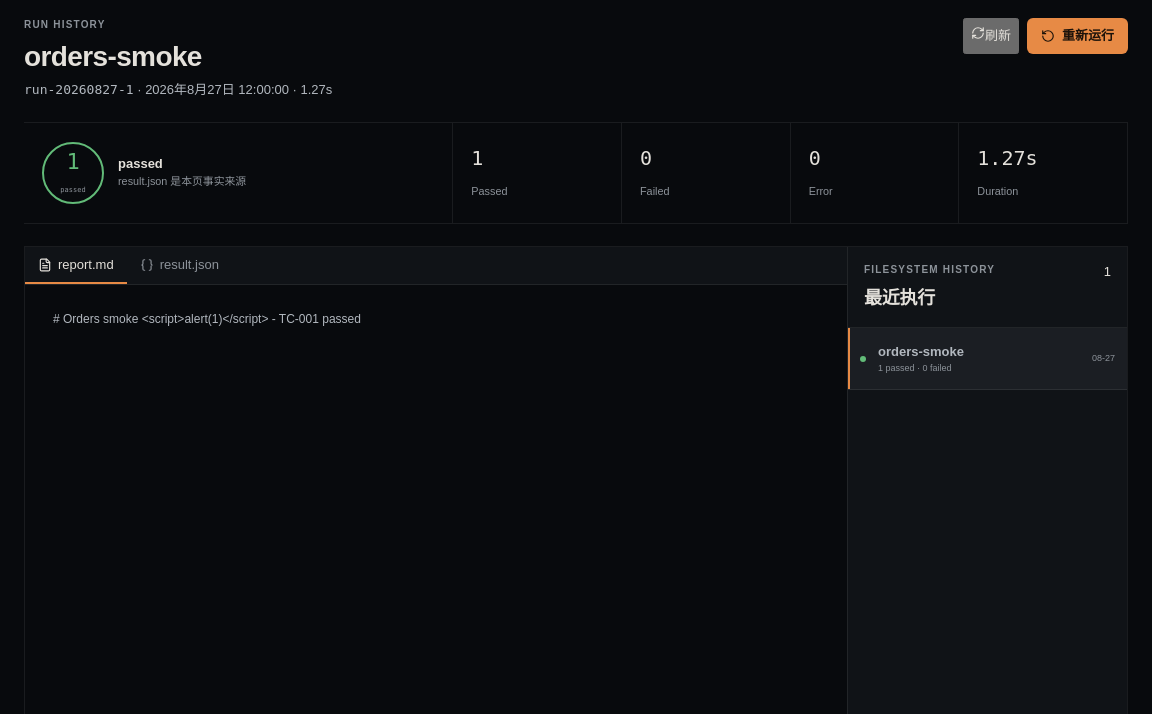
Test: ReportsView › reloads the selected report detail when refreshing history
Click the button "刷新" at x=991, y=36, box [963, 18, 1019, 54]
(page scrolled)
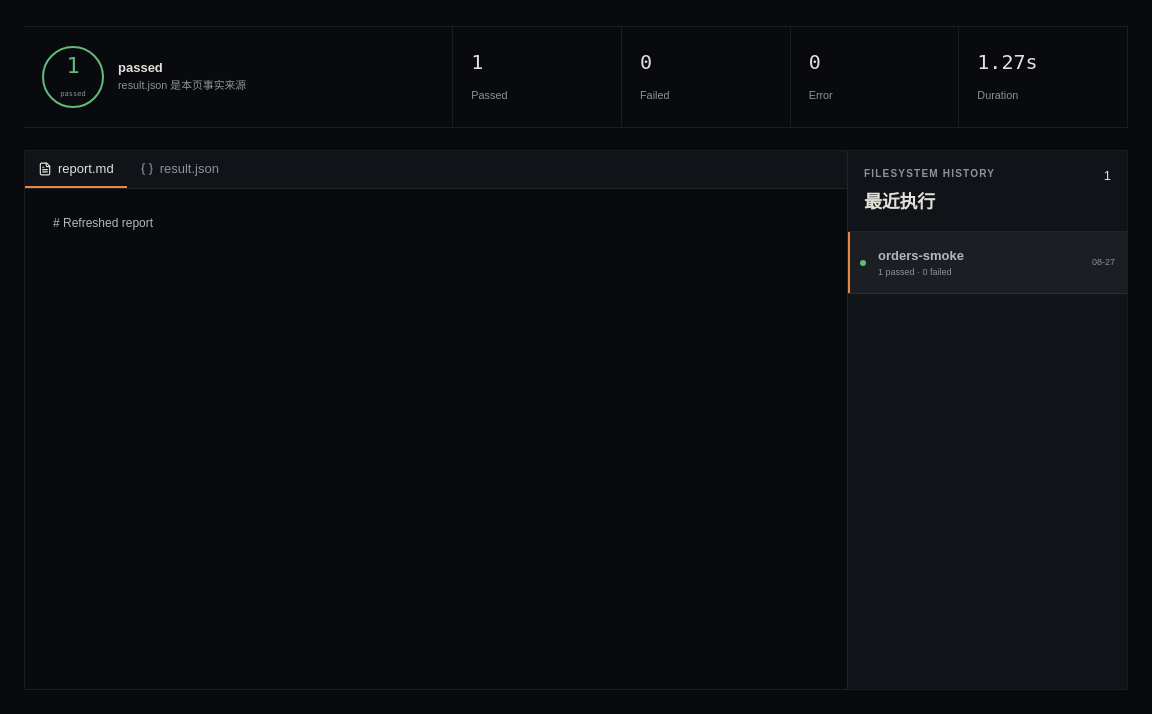
Expected: the text with class "markdown-preview" shows "Refreshed report", [53, 216, 153, 230]
